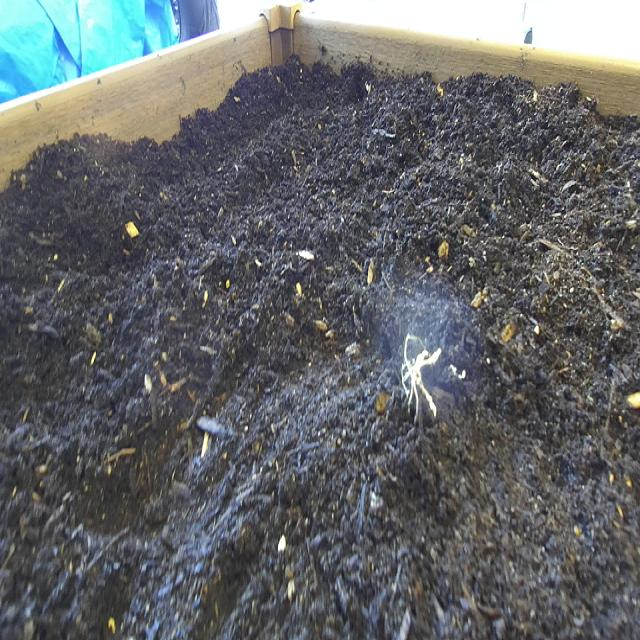Unhealthy: (390, 310, 475, 440)
